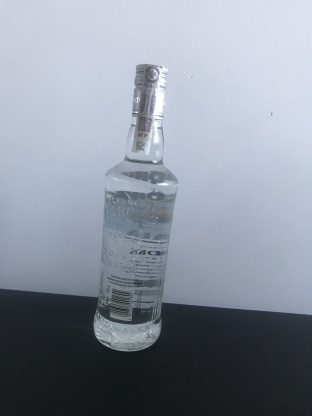nakretka: (129, 59, 170, 122)
